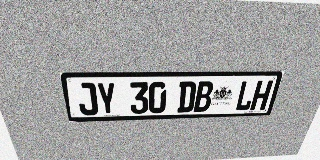0: (148, 82, 167, 113)
3: (130, 82, 148, 114)
B: (193, 81, 214, 112)
D: (177, 81, 197, 112)
H: (250, 80, 273, 110)
J: (75, 82, 99, 115)
L: (234, 81, 257, 111)
Y: (96, 82, 117, 115)
